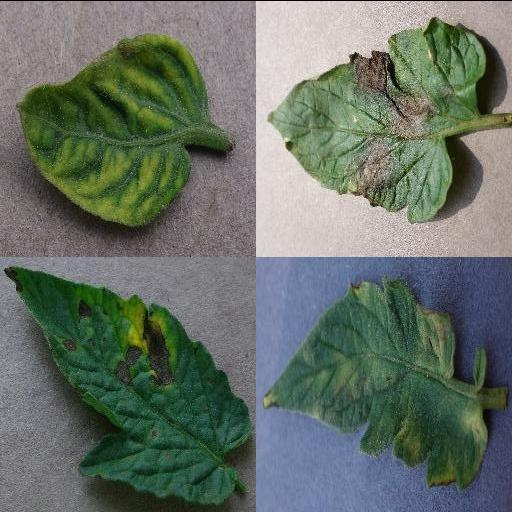Early Blight: (2, 263, 254, 506)
Late Blight: (269, 15, 487, 221)
Leaf Mold: (262, 276, 492, 489)
Yellow Leaf Curl Virus: (18, 32, 210, 228)
